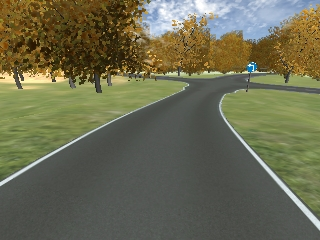left: (247, 64, 258, 71)
